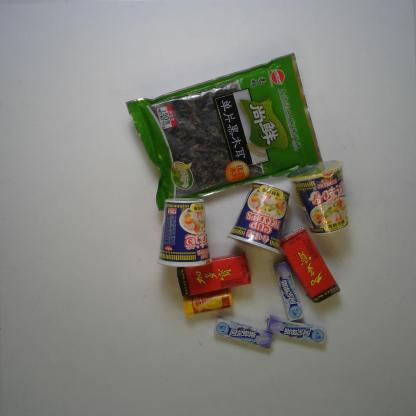Candy: (213, 316, 274, 350), (273, 260, 305, 322), (263, 314, 327, 345), (182, 287, 234, 318)
Dried Food: (125, 52, 323, 211)
Drink: (279, 224, 342, 305), (176, 251, 253, 297)
Instant Noodles: (286, 159, 350, 235), (226, 180, 290, 256), (156, 196, 214, 268)
